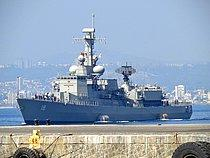MIL_Ship: (14, 15, 192, 122)
